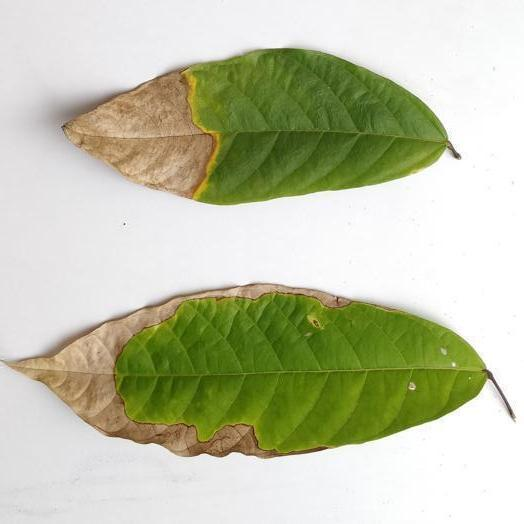Potassium: (9, 284, 513, 456), (63, 49, 459, 204)
